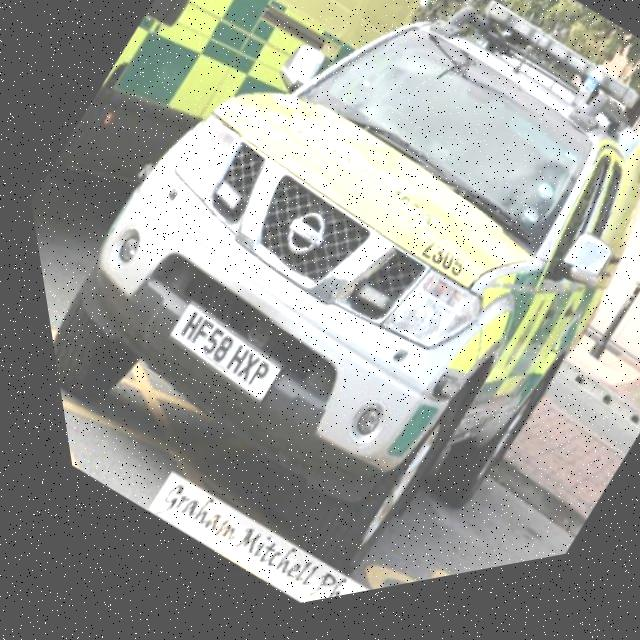license_plate: (147, 292, 280, 422)
